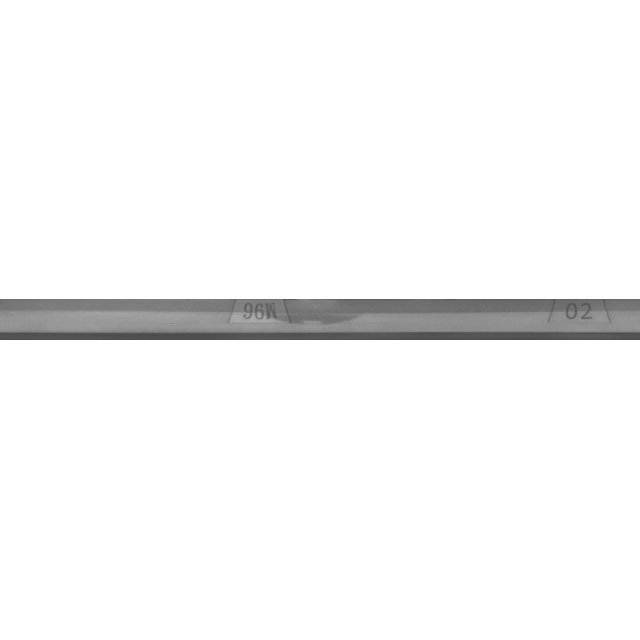mohao: (159, 270, 359, 370)
xuehao: (485, 270, 640, 370)
